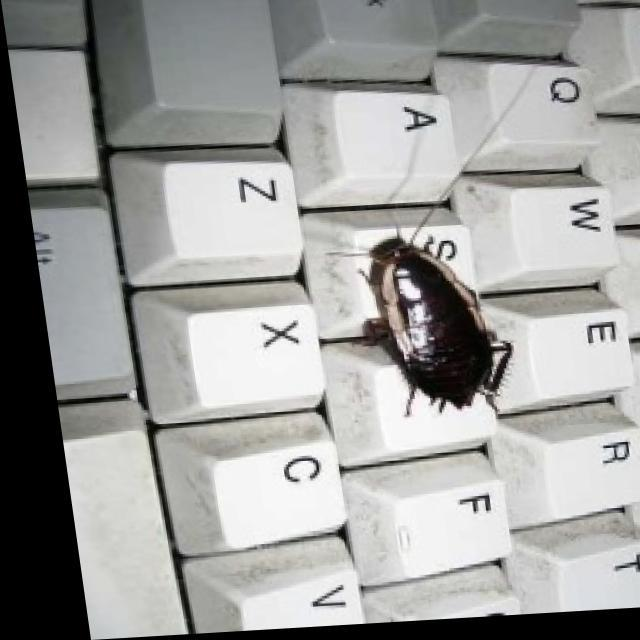cockroach: (335, 197, 522, 414)
